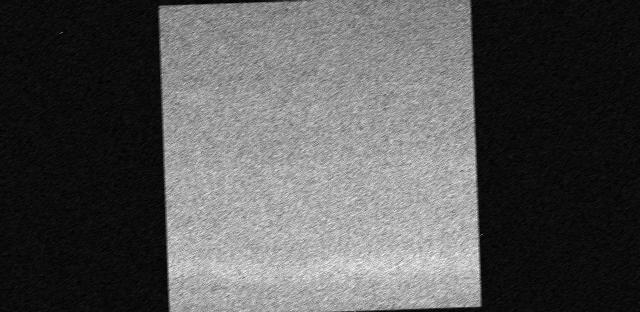silk_spot: (212, 22, 458, 216)
